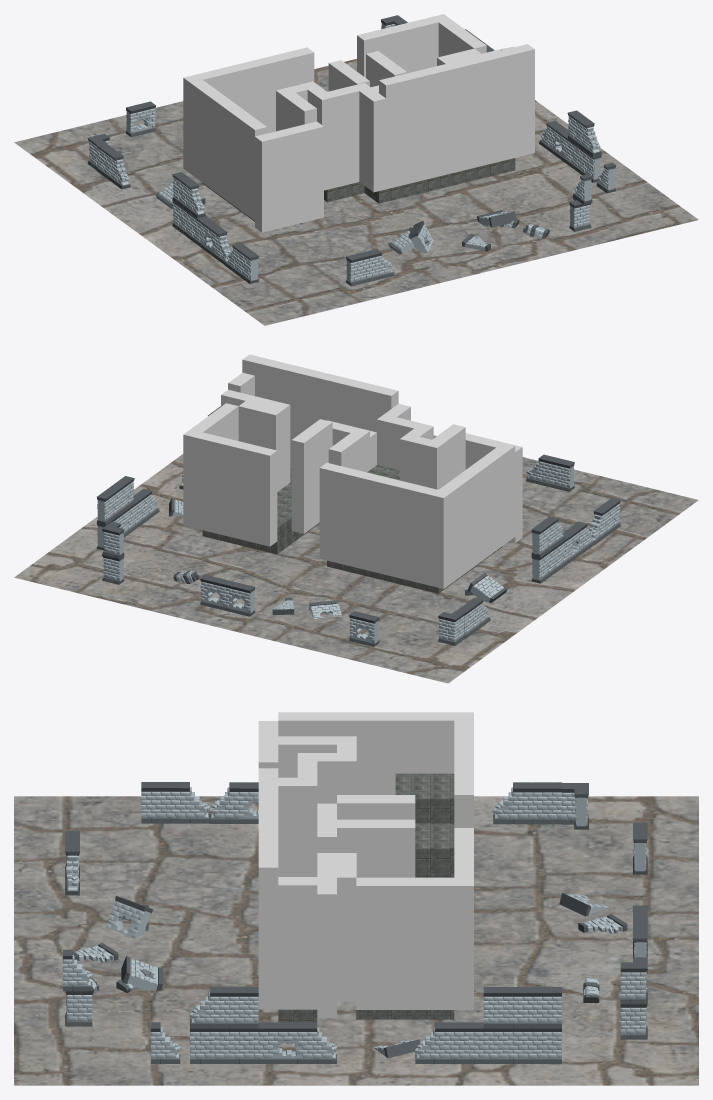
The model's file is stage.gltf.
3 renders of one model, top to bottom at view 1: azimuth 30°, elevation 25°; view 2: azimuth 150°, elevation 25°; view 3: azimuth 270°, elevation 25°, orthographic. The views are drawn at different scales.
Visible parts, largest first — view 1: 仮地面, 透明壁.011, 透明壁.010, 透明壁.014, 透明壁.007, 透明壁.002, 透明壁.016, 透明壁.017, 透明壁.008, 透明壁.009, 透明壁.001, 壁.014 (+16 smaller); view 2: 仮地面, 透明壁.007, 透明壁.002, 透明壁.010, 透明壁.011, 透明壁.004, 透明壁.009, 透明壁.012, 透明壁.014, 透明壁.016, 透明壁.006, 透明壁.003 (+19 smaller); view 3: 仮地面, 透明壁.001, 透明壁.010, 透明壁.013, 透明壁.011, 透明壁.004, 透明壁.002, 透明壁.003, 透明壁.012, 透明壁.016, 透明壁.007, 透明壁.008 (+36 smaller).
Boxes of the visible parts, x1,y1,x2,y2 form: 仮地面: (14,59,698,325); 透明壁.011: (379,44,534,189); 透明壁.010: (183,74,267,220); 透明壁.014: (255,121,323,232); 透明壁.007: (196,47,314,133); 透明壁.002: (357,14,450,77); 透明壁.016: (328,83,370,187); 透明壁.017: (359,88,385,192); 透明壁.008: (301,81,334,190); 透明壁.009: (276,87,316,131); 透明壁.001: (438,19,486,56); 壁.014: (346,250,375,286); 仮地面: (14,435,698,683); 透明壁.007: (319,462,437,585); 透明壁.002: (183,429,277,546); 透明壁.010: (431,443,515,588); 透明壁.011: (242,354,398,468); 透明壁.004: (291,419,332,533); 透明壁.009: (424,424,465,489); 透明壁.012: (238,401,282,491); 透明壁.014: (465,433,522,542); 透明壁.016: (377,414,420,470); 透明壁.006: (328,428,369,472); 透明壁.003: (221,389,290,487); 仮地面: (14,796,698,1085); 透明壁.001: (356,877,454,1009); 透明壁.010: (278,712,473,794); 透明壁.013: (278,877,317,1009); 透明壁.011: (258,768,278,1009); 透明壁.004: (337,819,415,877); 透明壁.002: (454,828,473,1009); 透明壁.003: (317,853,336,1018); 透明壁.012: (337,853,356,1001); 透明壁.016: (297,761,317,876); 透明壁.007: (454,720,473,827); 透明壁.008: (297,753,356,803).
Bounding box in the file's own units: 70 × 20.81 × 70.
Materials: 108 (89 with a texture image).
